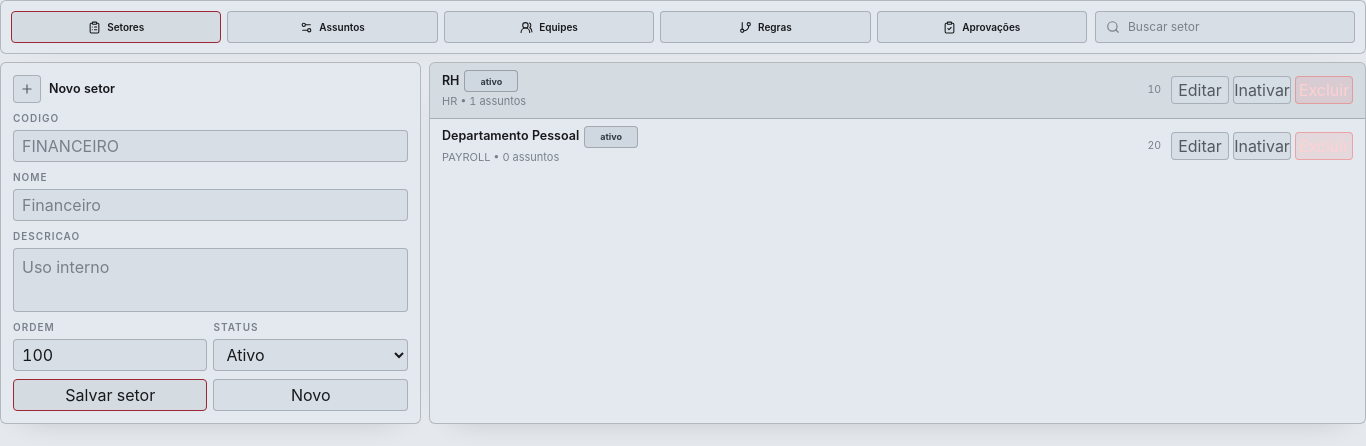
Test: Support catalog admin pages › distinguishes filtered empty state from missing departments
Expected: the text "RH" is shown, [442, 72, 460, 90]
In the search field named "Buscar configuracoes": (1236, 27) [1128, 18, 1344, 36], type "inexistente"
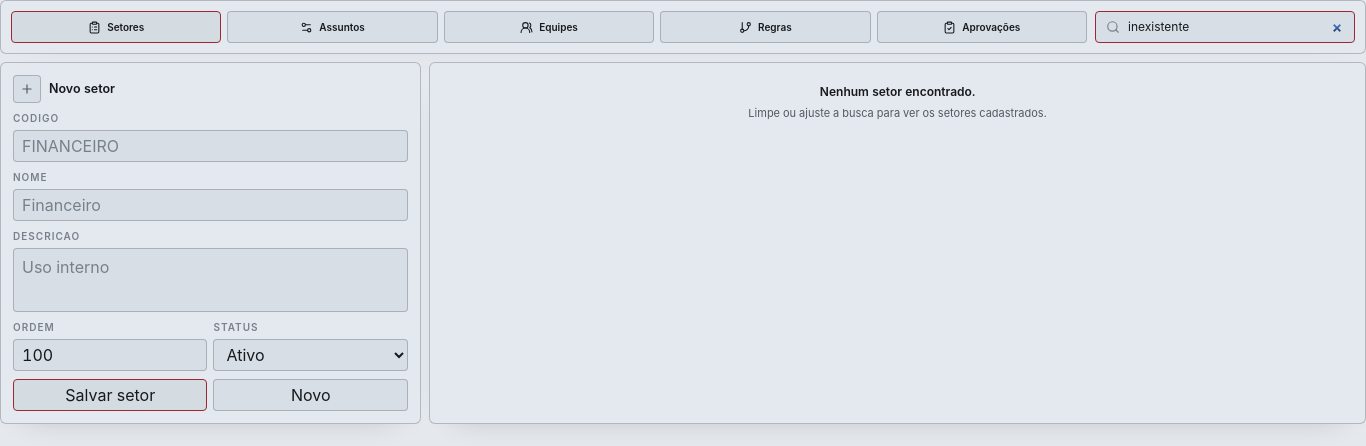
Result: the text "Nenhum setor encontrado." is shown at [820, 84, 975, 99]
Result: the text "Limpe ou ajuste a busca para ver os setores cadastrados." is shown at [748, 106, 1047, 120]
